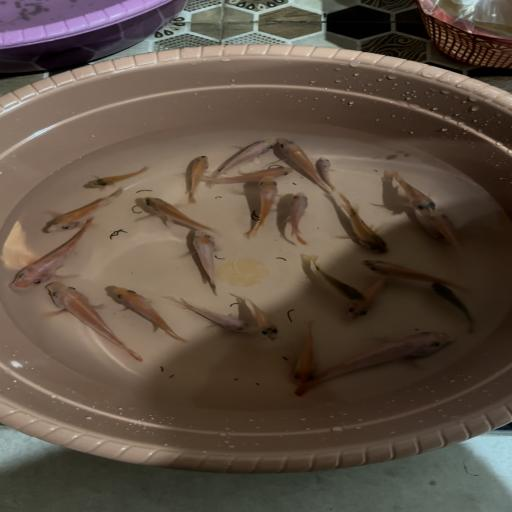nila: (31, 276, 147, 366), (319, 324, 458, 392), (9, 217, 103, 294), (107, 281, 189, 343), (37, 189, 133, 238), (324, 192, 394, 254), (362, 257, 475, 293), (177, 225, 234, 296), (138, 192, 223, 233), (173, 294, 252, 337), (281, 318, 328, 390), (423, 280, 485, 334), (301, 255, 368, 300), (337, 274, 396, 320), (204, 161, 304, 188), (240, 176, 282, 240), (214, 135, 276, 178), (273, 137, 325, 188), (78, 162, 154, 196), (383, 173, 447, 211), (239, 294, 282, 344), (284, 190, 321, 246), (429, 210, 472, 255), (178, 150, 213, 203), (400, 209, 450, 245), (310, 155, 346, 190)
